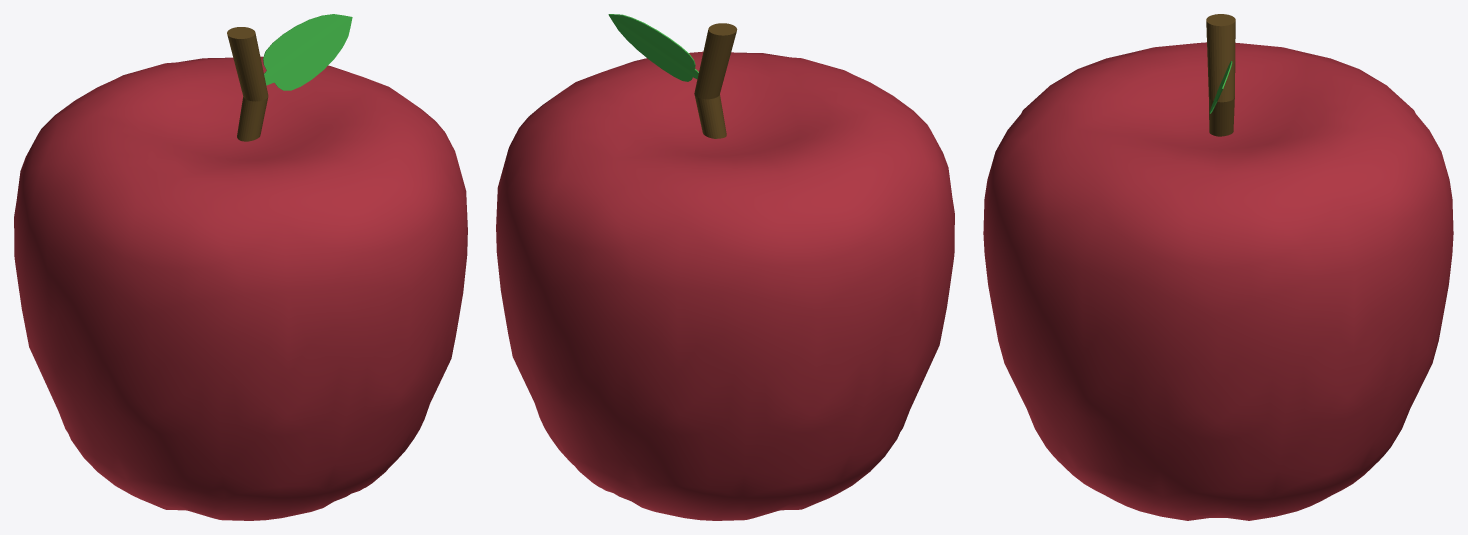
The model's file is apple.glb.
The picture shows the model from 3 angles, left to right: view 1: azimuth 30°, elevation 25°; view 2: azimuth 150°, elevation 25°; view 3: azimuth 270°, elevation 25°; orthographic projection. The views are drawn at different scales.
Visible parts, largest first — view 1: Apple; view 2: Apple; view 3: Apple.
Boxes of the visible parts, x1,y1,x2,y2 form: Apple: (14,14,467,520); Apple: (496,14,954,520); Apple: (983,14,1453,520).
Bounding box in the file's own units: 1.63 × 1.76 × 1.64.
